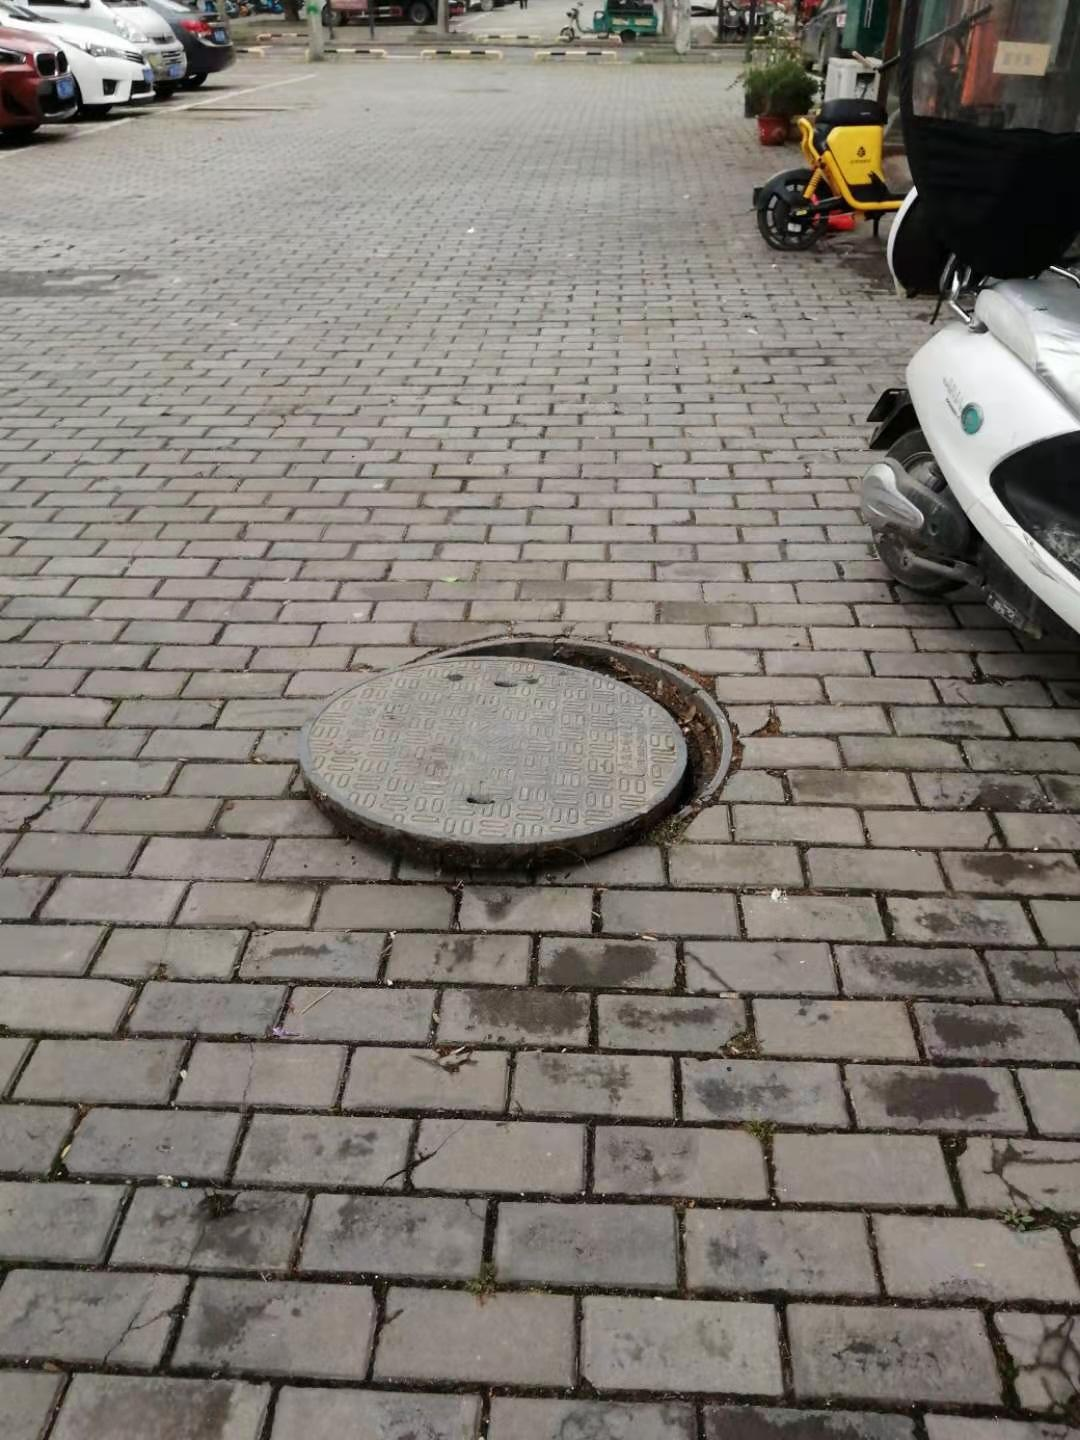well: (293, 630, 734, 871)
